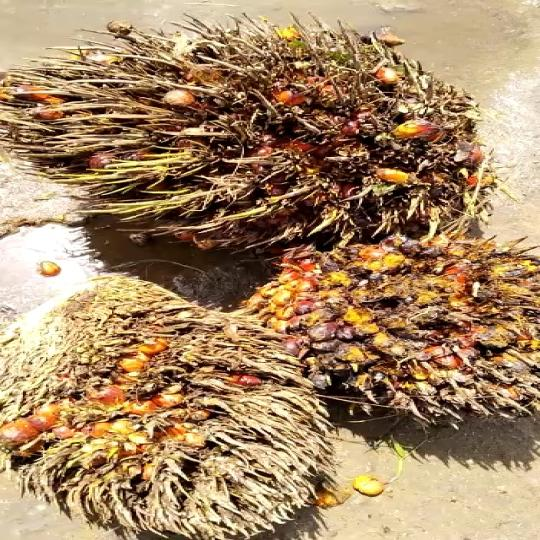terlalu masak: (0, 29, 499, 246), (0, 278, 327, 510)
